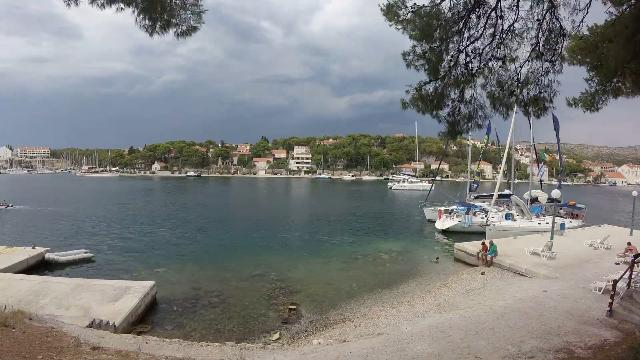Sailboat: (384, 170, 438, 194)
